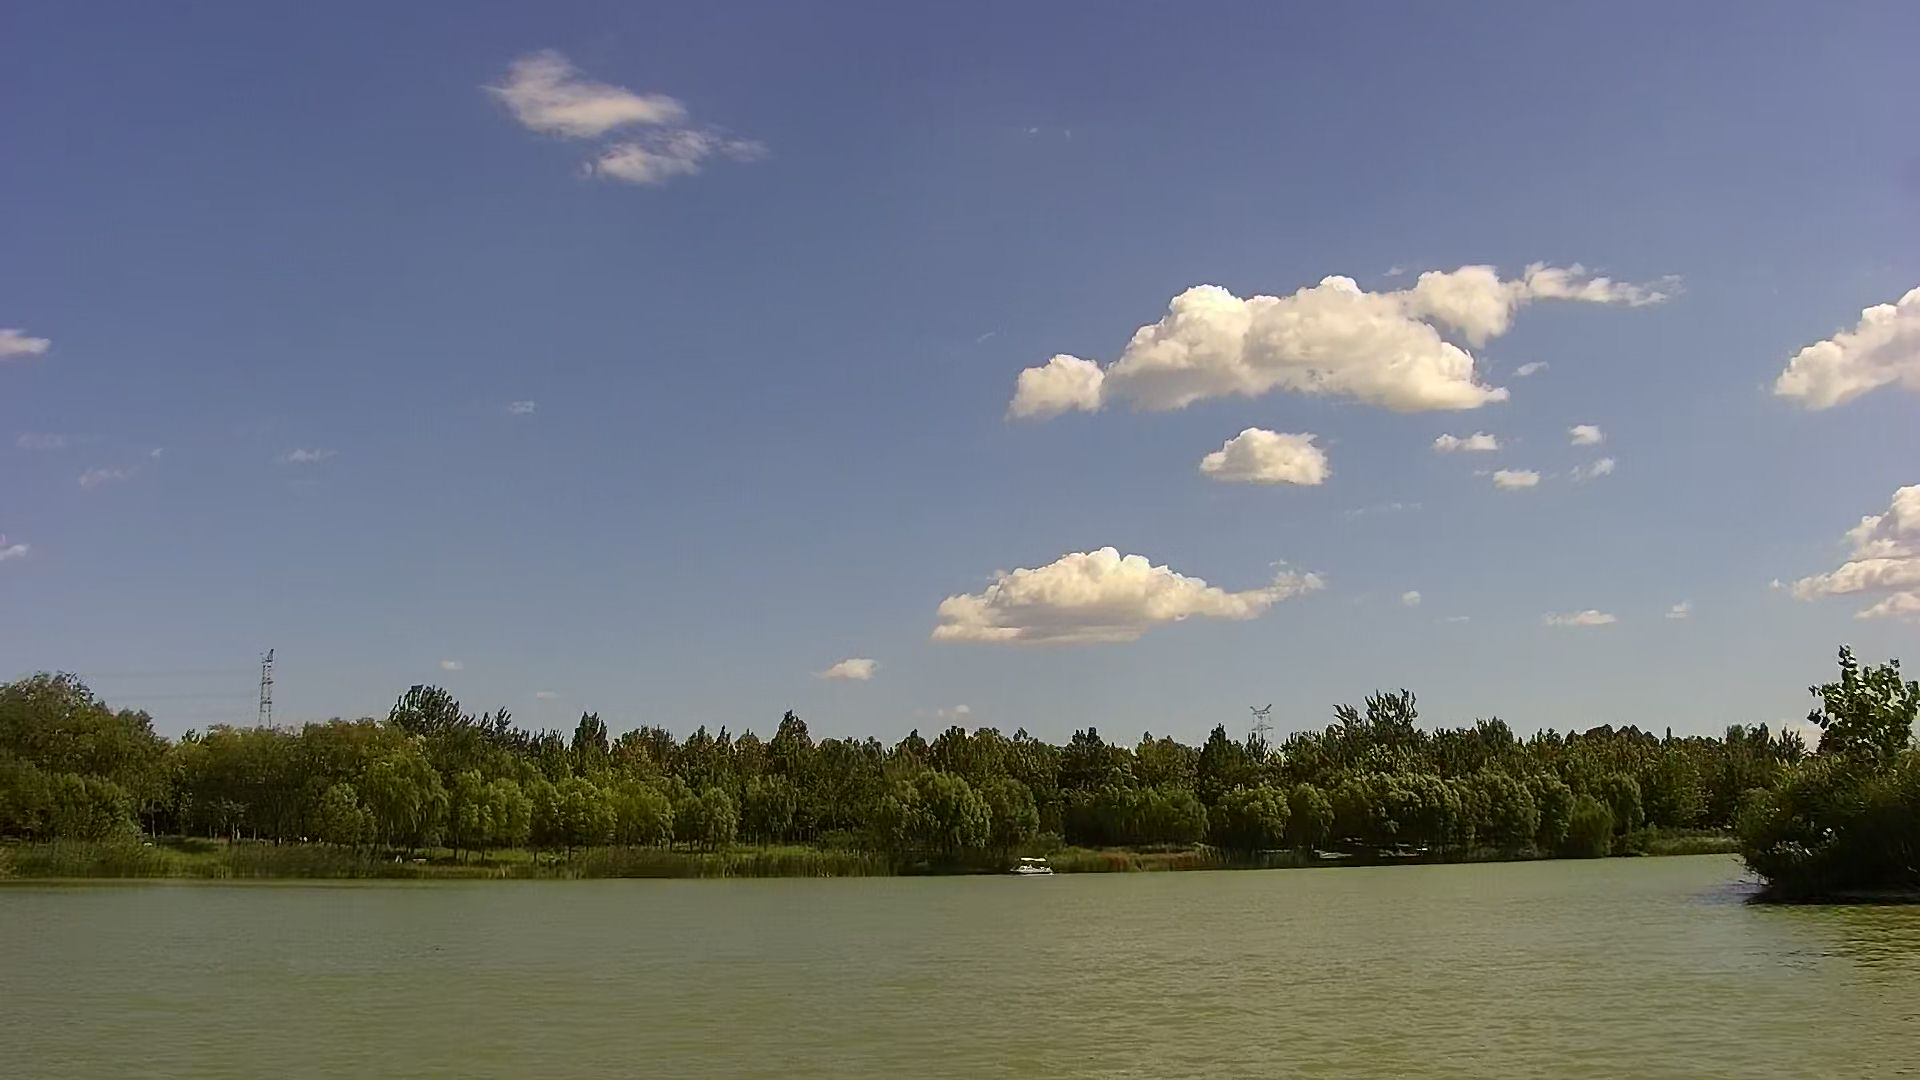boat: (1007, 856, 1054, 878)
